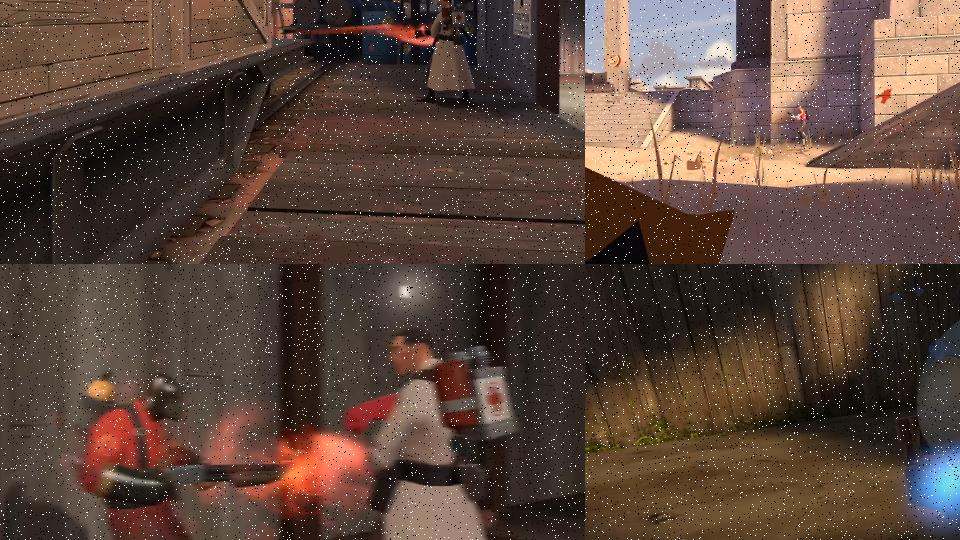Enemy: (330, 326, 563, 540), (61, 363, 306, 540), (414, 0, 476, 103), (786, 105, 810, 148)
